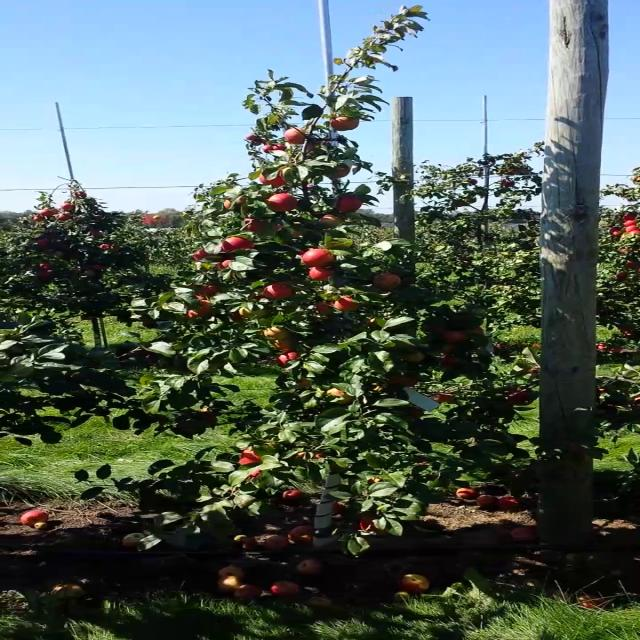apple: (301, 248, 335, 266), (222, 237, 254, 253), (263, 284, 295, 300), (268, 194, 298, 210), (371, 273, 401, 289), (359, 516, 385, 534), (328, 388, 356, 404), (238, 448, 262, 466), (331, 297, 360, 311), (337, 196, 362, 212), (332, 116, 360, 130), (308, 267, 335, 281), (264, 325, 289, 340), (258, 171, 284, 185), (284, 128, 306, 144), (386, 376, 418, 387), (316, 214, 342, 226), (276, 350, 298, 364), (330, 165, 351, 179), (243, 218, 265, 231), (508, 388, 528, 402), (237, 308, 264, 318), (438, 356, 460, 368), (195, 286, 221, 296), (426, 324, 451, 334), (275, 339, 295, 351), (192, 248, 209, 262), (444, 331, 466, 341), (194, 300, 210, 312), (316, 302, 332, 314), (183, 309, 200, 319), (429, 395, 455, 401), (304, 140, 316, 152), (249, 468, 262, 479), (218, 260, 232, 270), (289, 231, 303, 239), (312, 451, 326, 459), (411, 407, 421, 417), (236, 196, 248, 204), (472, 326, 484, 334), (273, 143, 284, 151), (299, 380, 310, 388), (263, 146, 273, 154), (222, 200, 230, 210), (369, 478, 380, 484), (274, 224, 281, 232), (297, 451, 305, 457), (246, 135, 256, 139)
